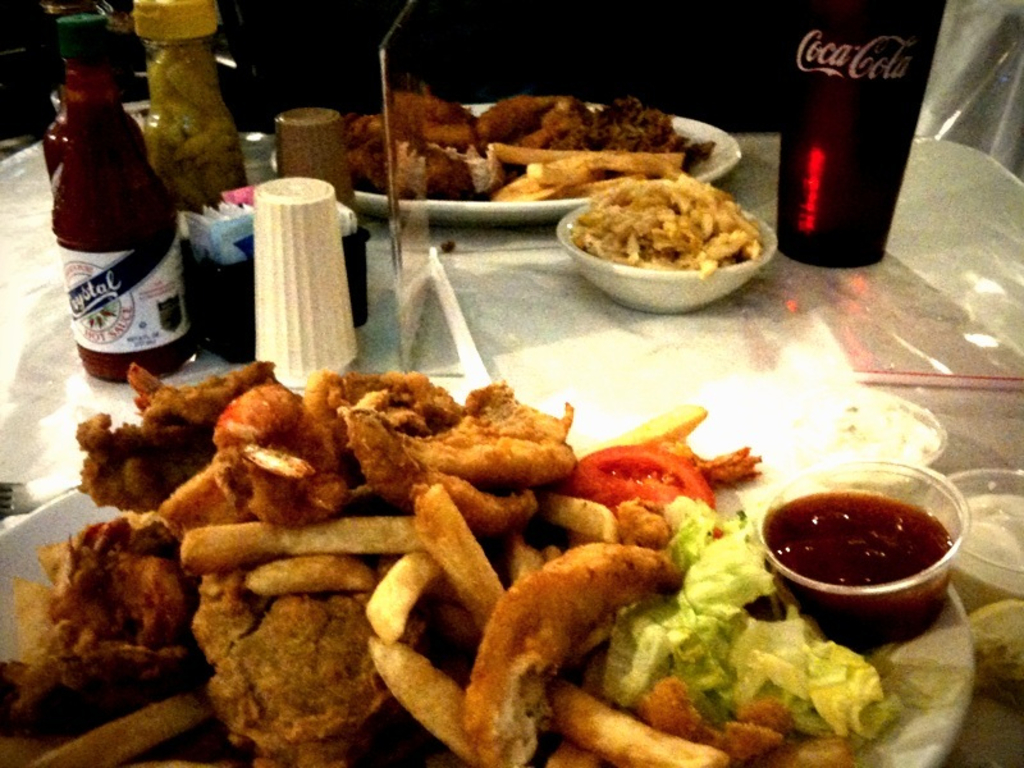French fries: (0, 340, 853, 766)
